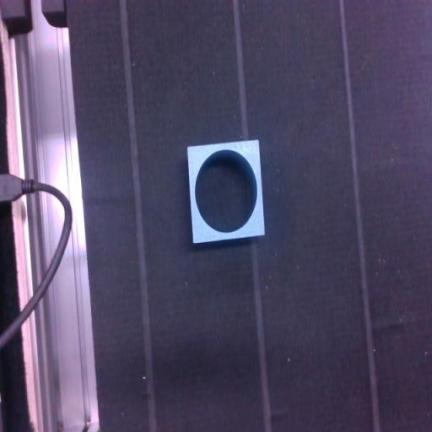hole: (188, 141, 264, 242)
